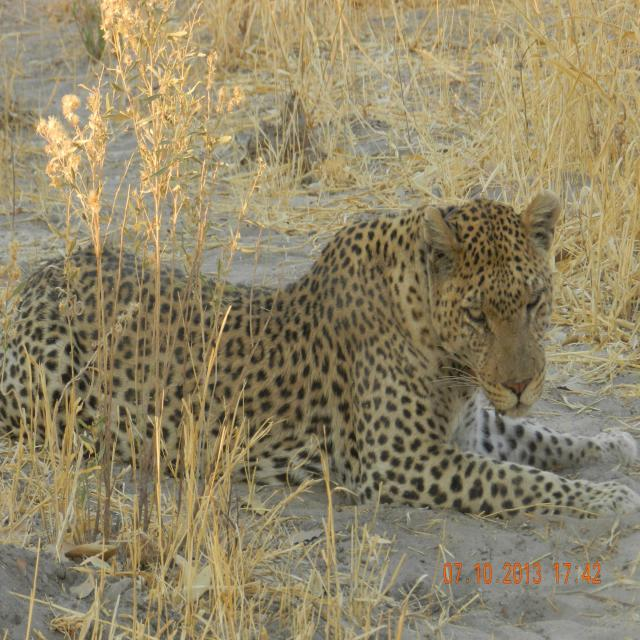Leopard: (8, 184, 623, 548)
